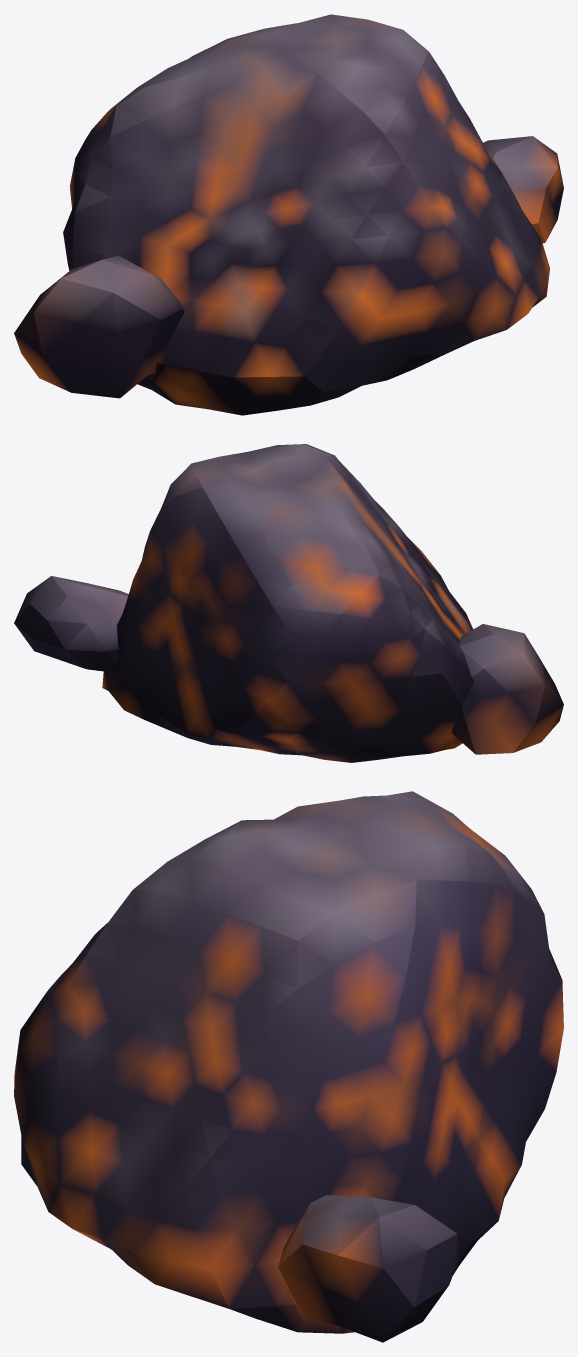
Rendered from ember_rock_chunk_b.glb.
3 views of the same model, one above another, from view 1: azimuth 30°, elevation 25°; view 2: azimuth 150°, elevation 25°; view 3: azimuth 270°, elevation 25° (orthographic). The views are drawn at different scales.
Parts seen in each view (by area): view 1: ember_rock_chunk_b; view 2: ember_rock_chunk_b; view 3: ember_rock_chunk_b.
Boxes of the visible parts, left/top/right/bottom form: ember_rock_chunk_b: left=14, top=14, right=563, bottom=415; ember_rock_chunk_b: left=14, top=444, right=563, bottom=762; ember_rock_chunk_b: left=14, top=791, right=563, bottom=1342.
Bounding box in the file's own units: 8.29 × 3.93 × 5.12.
